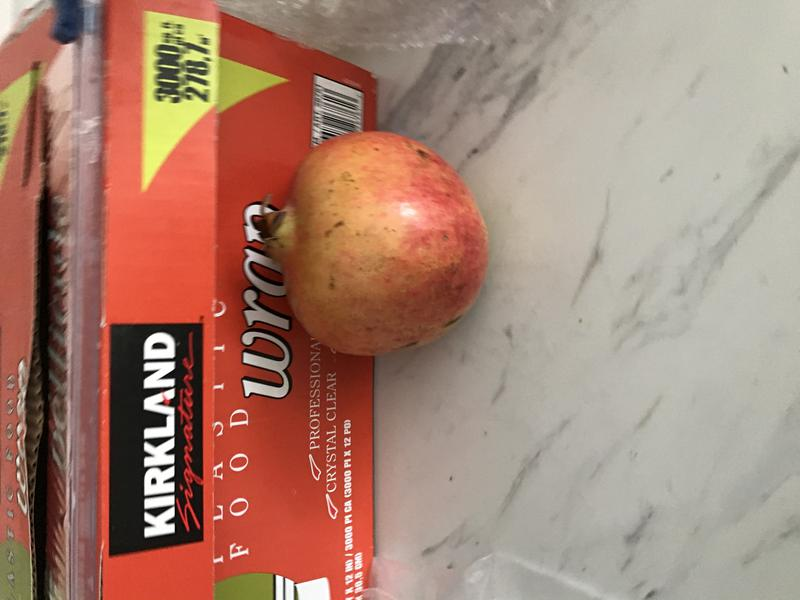pomegranate: (251, 120, 509, 363)
